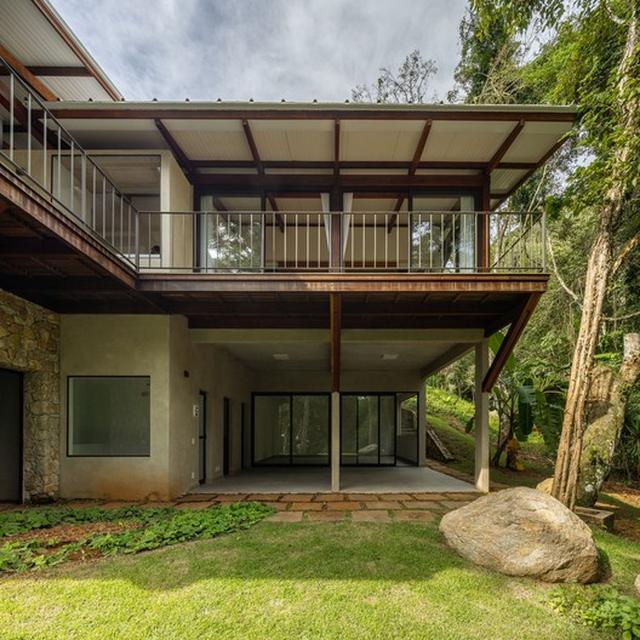building: (0, 0, 579, 499)
